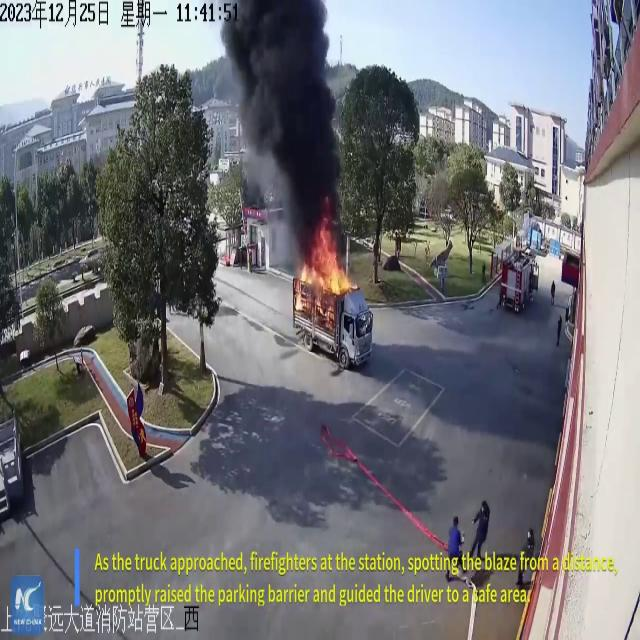Fire: (293, 227, 355, 314)
Smoke: (220, 0, 348, 244)
